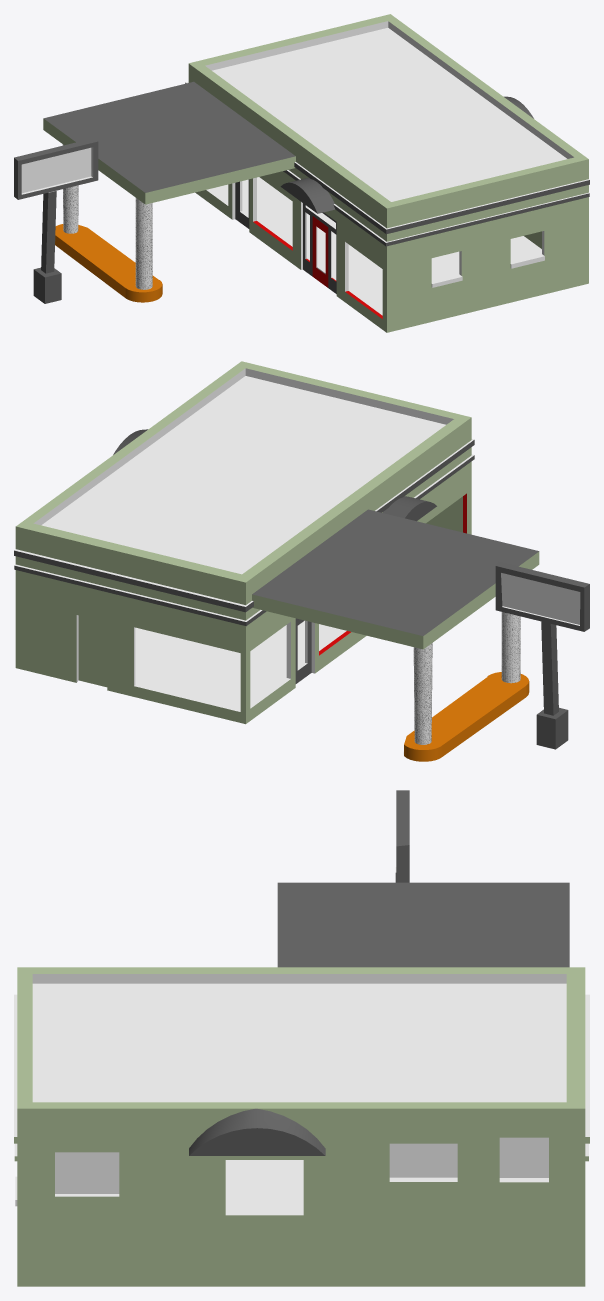
The model's file is gas_station2.glb.
The picture shows the model from 3 angles, top to bottom: view 1: azimuth 30°, elevation 25°; view 2: azimuth 150°, elevation 25°; view 3: azimuth 270°, elevation 25°; orthographic projection. The views are drawn at different scales.
Visible parts, largest first — view 1: SketchUp.001_ID153, SketchUp.003_ID167, SketchUp.035_ID363, SketchUp_ID145, SketchUp.043_ID411, SketchUp.049_ID449, SketchUp.028_ID321, SketchUp.036_ID369, SketchUp.047_ID437, SketchUp.030_ID333, SketchUp.041_ID399, SketchUp.026_ID309 (+7 smaller); view 2: SketchUp.001_ID153, SketchUp.003_ID167, SketchUp.035_ID363, SketchUp_ID145, SketchUp.043_ID411, SketchUp.049_ID449, SketchUp.028_ID321, SketchUp.006_ID185, SketchUp.047_ID437, SketchUp.045_ID425, SketchUp.030_ID333, SketchUp.036_ID369 (+8 smaller); view 3: SketchUp.001_ID153, SketchUp.003_ID167, SketchUp.035_ID363, SketchUp.016_ID249, SketchUp_ID145, SketchUp.018_ID261, SketchUp.005_ID179, SketchUp.004_ID173, SketchUp.047_ID437, SketchUp.029_ID327.
Part boxes in pixels (bbox=[...]): SketchUp.001_ID153: bbox=[43, 14, 588, 332]; SketchUp.003_ID167: bbox=[205, 21, 573, 201]; SketchUp.035_ID363: bbox=[44, 81, 295, 192]; SketchUp_ID145: bbox=[210, 177, 541, 315]; SketchUp.043_ID411: bbox=[55, 224, 162, 302]; SketchUp.049_ID449: bbox=[21, 147, 93, 194]; SketchUp.028_ID321: bbox=[185, 82, 589, 234]; SketchUp.036_ID369: bbox=[135, 198, 152, 289]; SketchUp.047_ID437: bbox=[14, 138, 98, 199]; SketchUp.030_ID333: bbox=[283, 170, 589, 246]; SketchUp.041_ID399: bbox=[41, 191, 56, 273]; SketchUp.026_ID309: bbox=[280, 178, 335, 213]; SketchUp.001_ID153: bbox=[15, 361, 539, 724]; SketchUp.003_ID167: bbox=[33, 368, 453, 574]; SketchUp.035_ID363: bbox=[252, 509, 538, 635]; SketchUp_ID145: bbox=[76, 615, 346, 710]; SketchUp.043_ID411: bbox=[404, 672, 529, 761]; SketchUp.049_ID449: bbox=[501, 573, 580, 625]; SketchUp.028_ID321: bbox=[14, 440, 474, 612]; SketchUp.006_ID185: bbox=[78, 615, 107, 687]; SketchUp.047_ID437: bbox=[495, 561, 589, 631]; SketchUp.045_ID425: bbox=[413, 643, 432, 744]; SketchUp.030_ID333: bbox=[14, 455, 474, 626]; SketchUp.036_ID369: bbox=[501, 612, 520, 683]; SketchUp.001_ID153: bbox=[14, 967, 589, 1286]; SketchUp.003_ID167: bbox=[32, 974, 566, 1102]; SketchUp.035_ID363: bbox=[277, 882, 569, 967]; SketchUp.016_ID249: bbox=[189, 1108, 325, 1155]; SketchUp_ID145: bbox=[225, 1160, 303, 1210]; SketchUp.018_ID261: bbox=[55, 1152, 119, 1196]; SketchUp.005_ID179: bbox=[389, 1143, 457, 1181]; SketchUp.004_ID173: bbox=[499, 1137, 548, 1182]; SketchUp.047_ID437: bbox=[396, 790, 409, 882]; SketchUp.029_ID327: bbox=[14, 994, 589, 1136].
Size of the model in its own units: 16.5 by 5.08 by 12.69.
